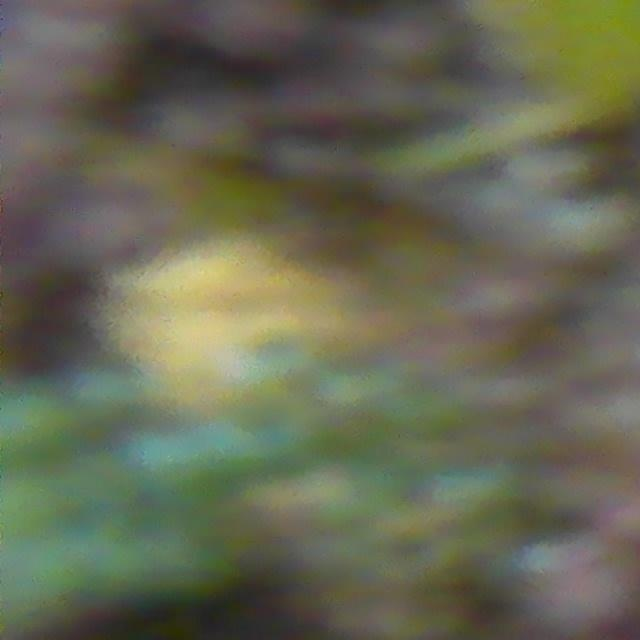SeaGrape: (0, 380, 74, 460), (69, 363, 139, 426)
